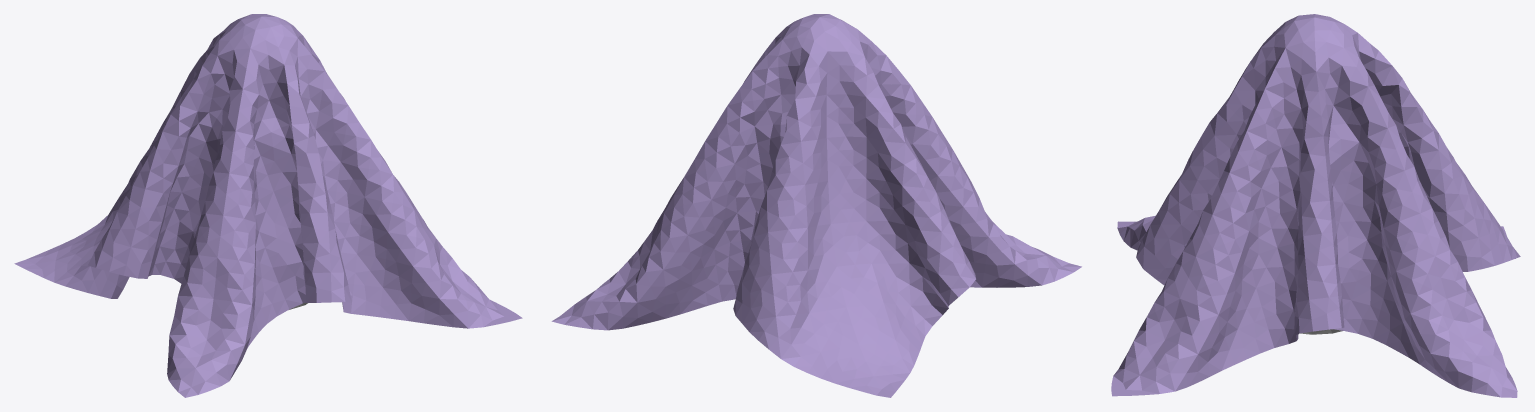
The model's file is level_1.glb.
3 renders of one model, left to right at view 1: azimuth 30°, elevation 25°; view 2: azimuth 150°, elevation 25°; view 3: azimuth 270°, elevation 25°, orthographic. The views are drawn at different scales.
Visible parts, largest first — view 1: world; view 2: world; view 3: world.
Part boxes in pixels (box(x1,y1,x2,y2)): world: box(14, 14, 522, 397); world: box(551, 14, 1081, 397); world: box(1111, 14, 1520, 397).
Size of the model in its own units: 0.3846 by 0.2964 by 0.3772.
